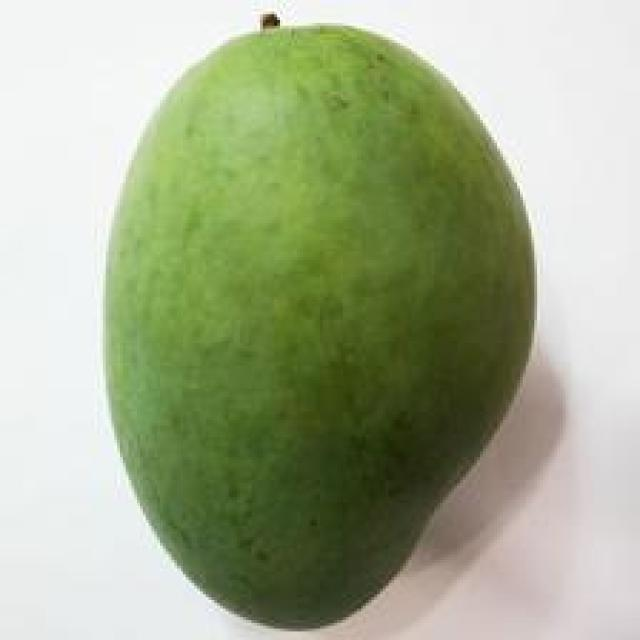Good_Mango: (97, 17, 540, 634)
